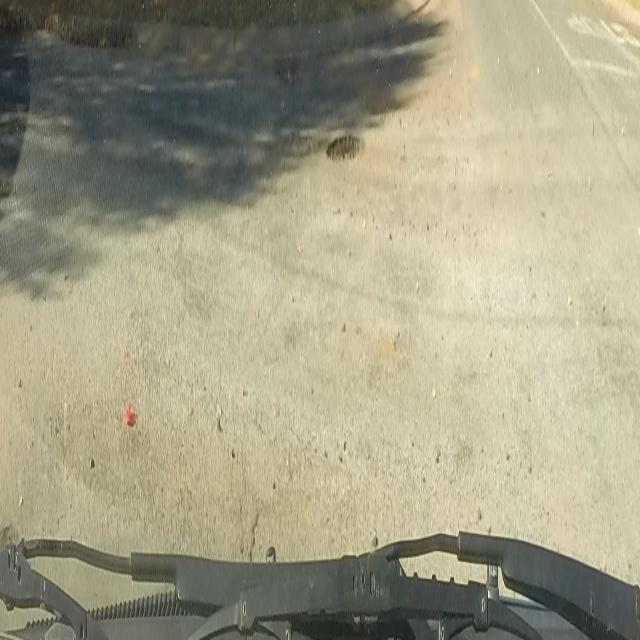pothole: (324, 126, 365, 162)
